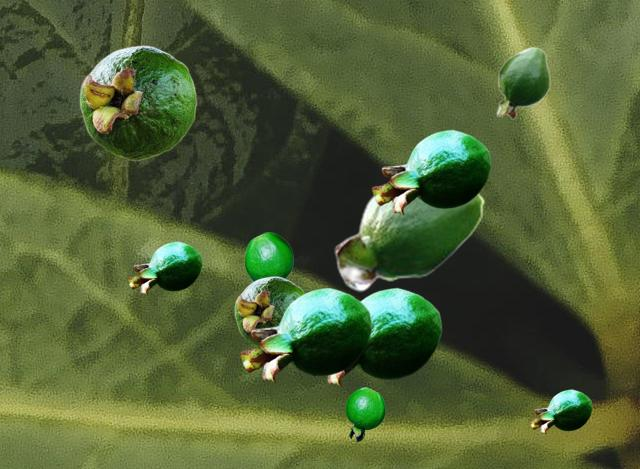guava: (334, 179, 484, 291), (79, 45, 196, 160), (312, 287, 441, 386), (239, 287, 371, 382), (371, 129, 490, 214), (234, 276, 304, 346), (127, 241, 201, 294), (496, 46, 549, 119), (529, 389, 591, 433), (244, 232, 292, 281), (345, 387, 384, 441)
